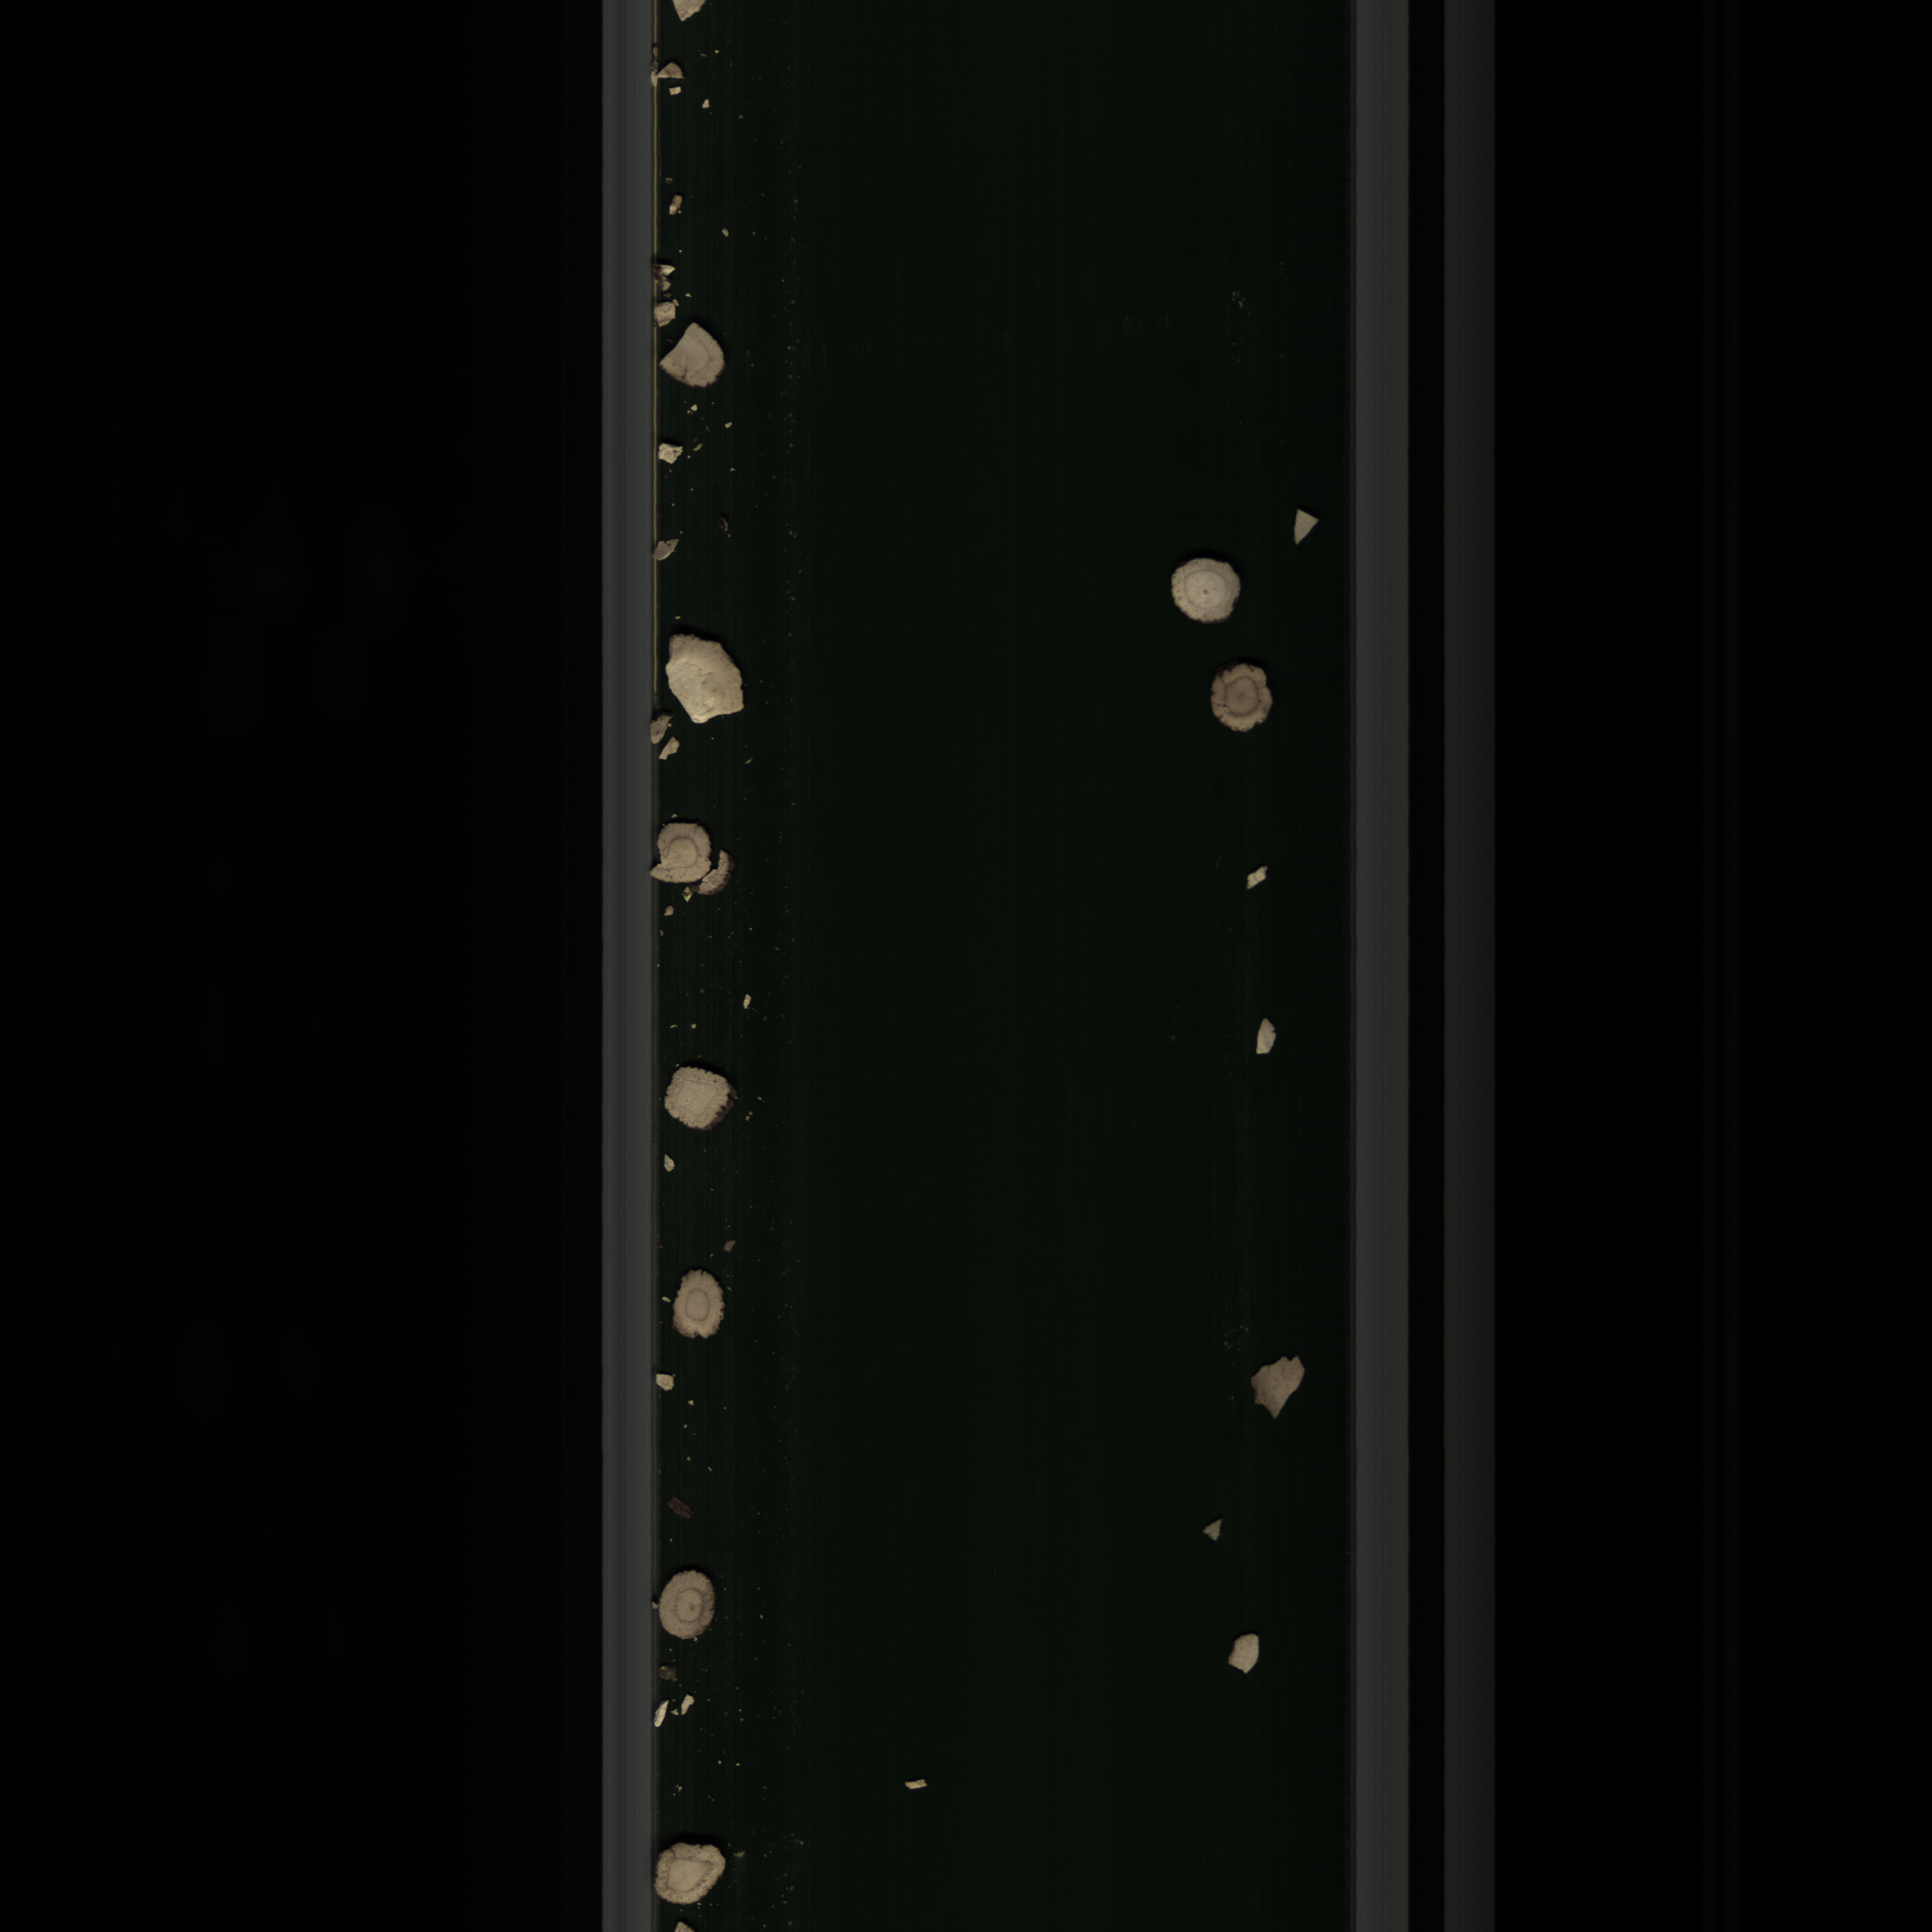debris: (663, 621, 759, 734), (649, 819, 734, 904), (663, 324, 740, 396), (1242, 1348, 1311, 1422), (1224, 1628, 1265, 1681), (1246, 1010, 1284, 1058), (656, 439, 694, 474), (1288, 506, 1322, 545), (1246, 863, 1276, 893), (653, 536, 683, 564)
moldy: (1205, 660, 1274, 738)
